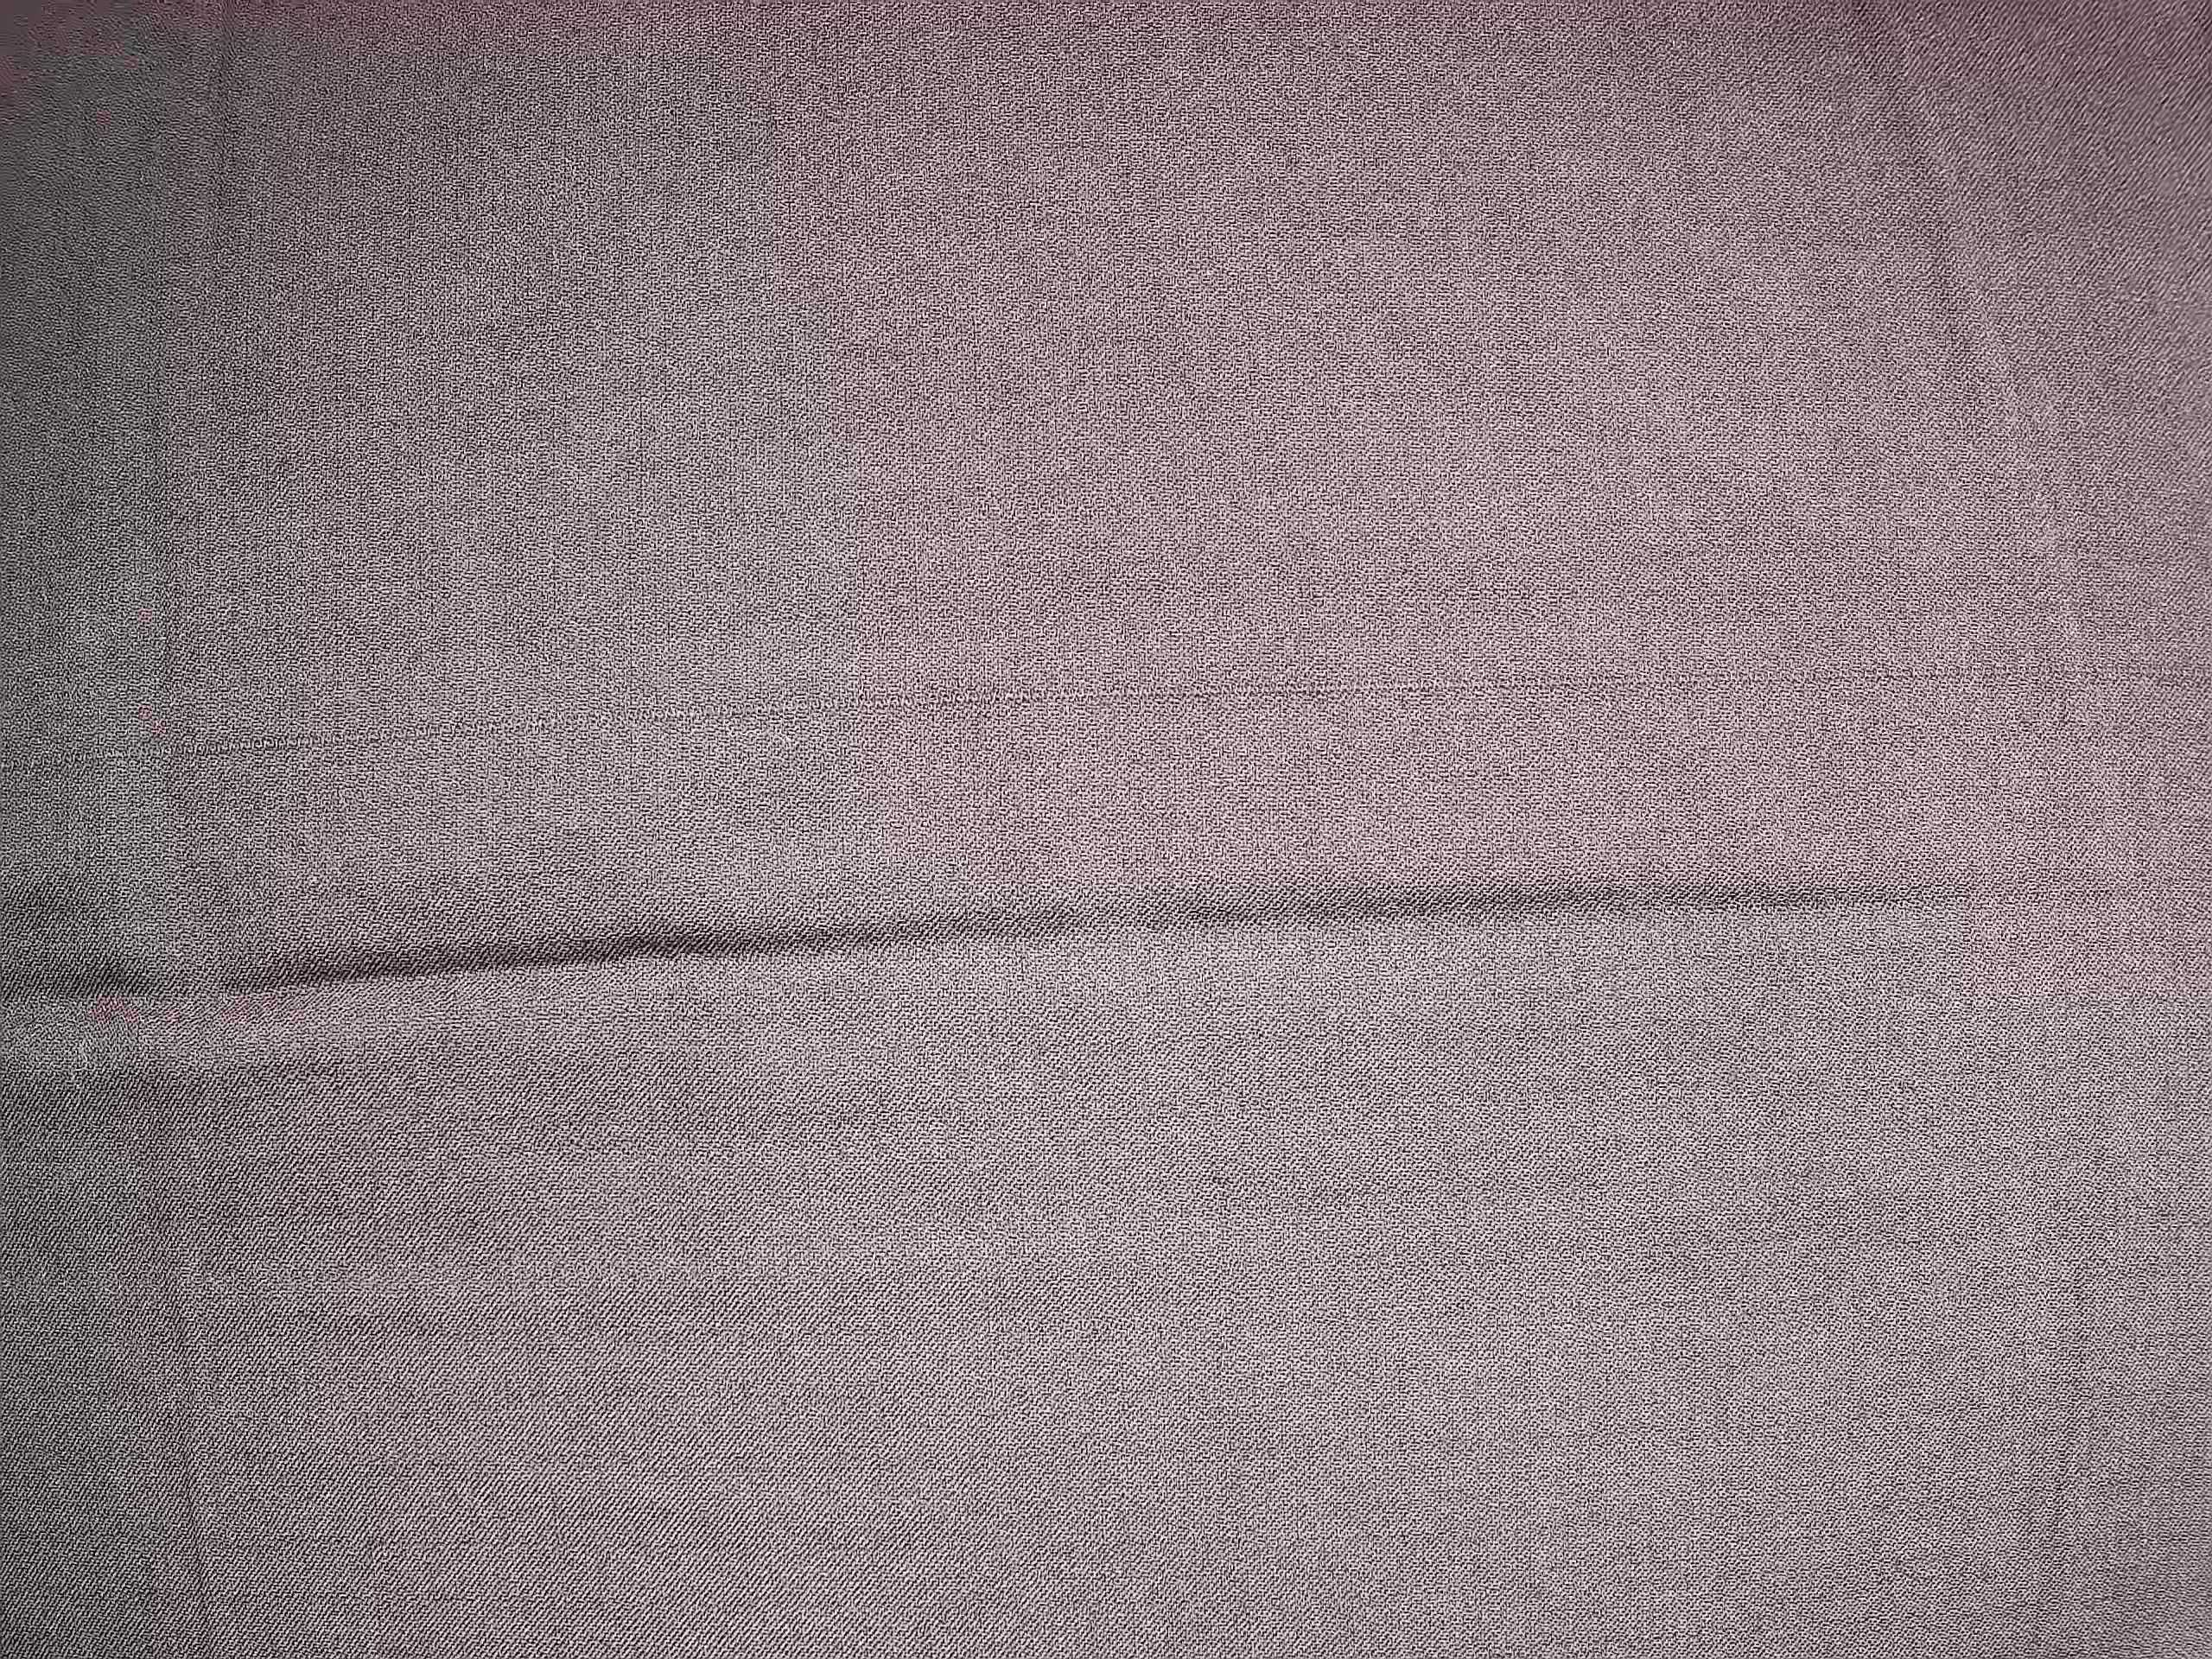others: (28, 662, 2198, 781)
